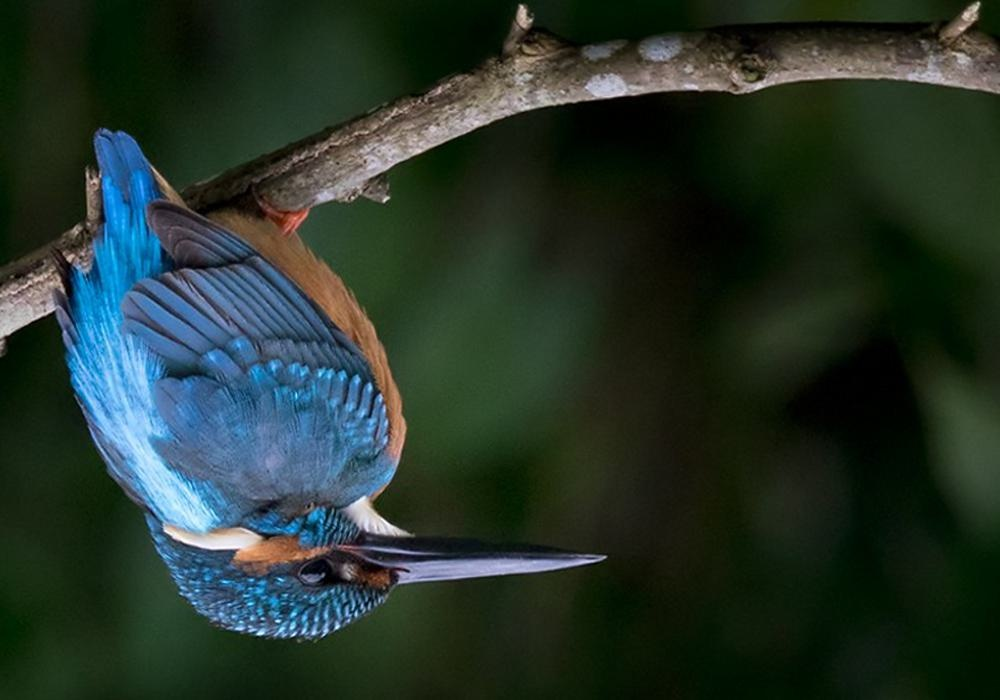kingfisher: (57, 146, 604, 636)
